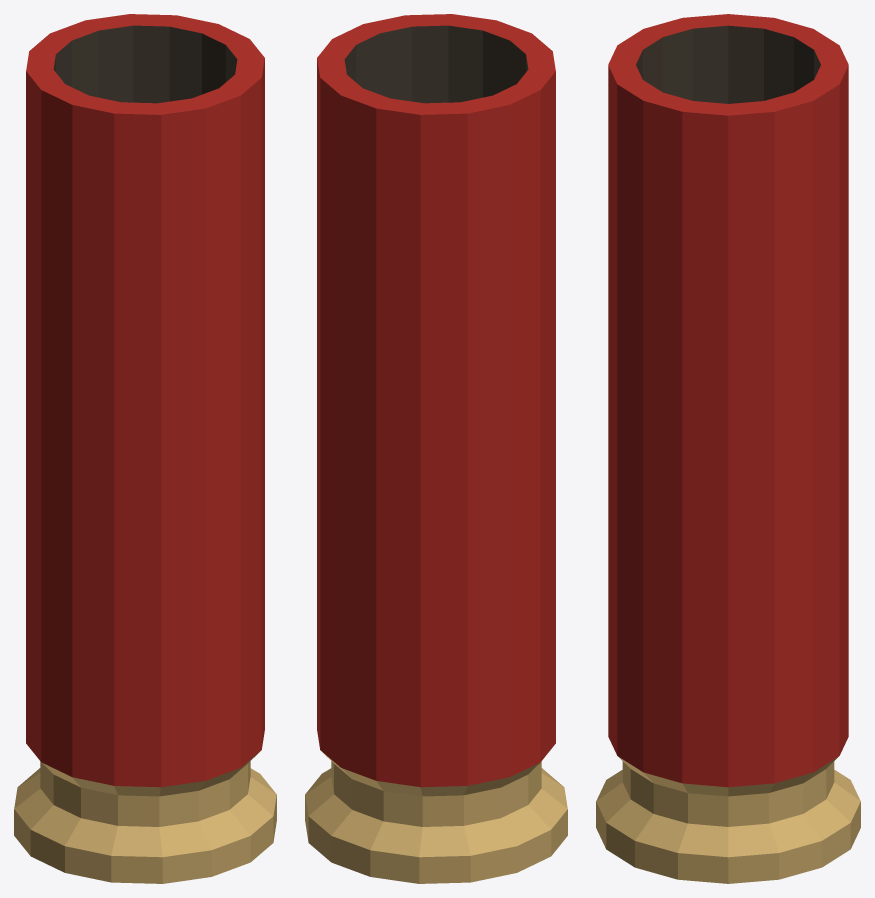
Rendered from Shotgun_SpentCase.glb.
3 views of the same model, side by side, from view 1: azimuth 30°, elevation 25°; view 2: azimuth 150°, elevation 25°; view 3: azimuth 270°, elevation 25° (orthographic).
Parts seen in each view (by area): view 1: Shotgun_SpentCase; view 2: Shotgun_SpentCase; view 3: Shotgun_SpentCase.
Part boxes in pixels (x1,y1,x2,y2): Shotgun_SpentCase: (14, 14, 276, 883); Shotgun_SpentCase: (305, 14, 567, 883); Shotgun_SpentCase: (596, 14, 860, 883).
Bounding box in the file's own units: 0.022 × 0.0708 × 0.022.
